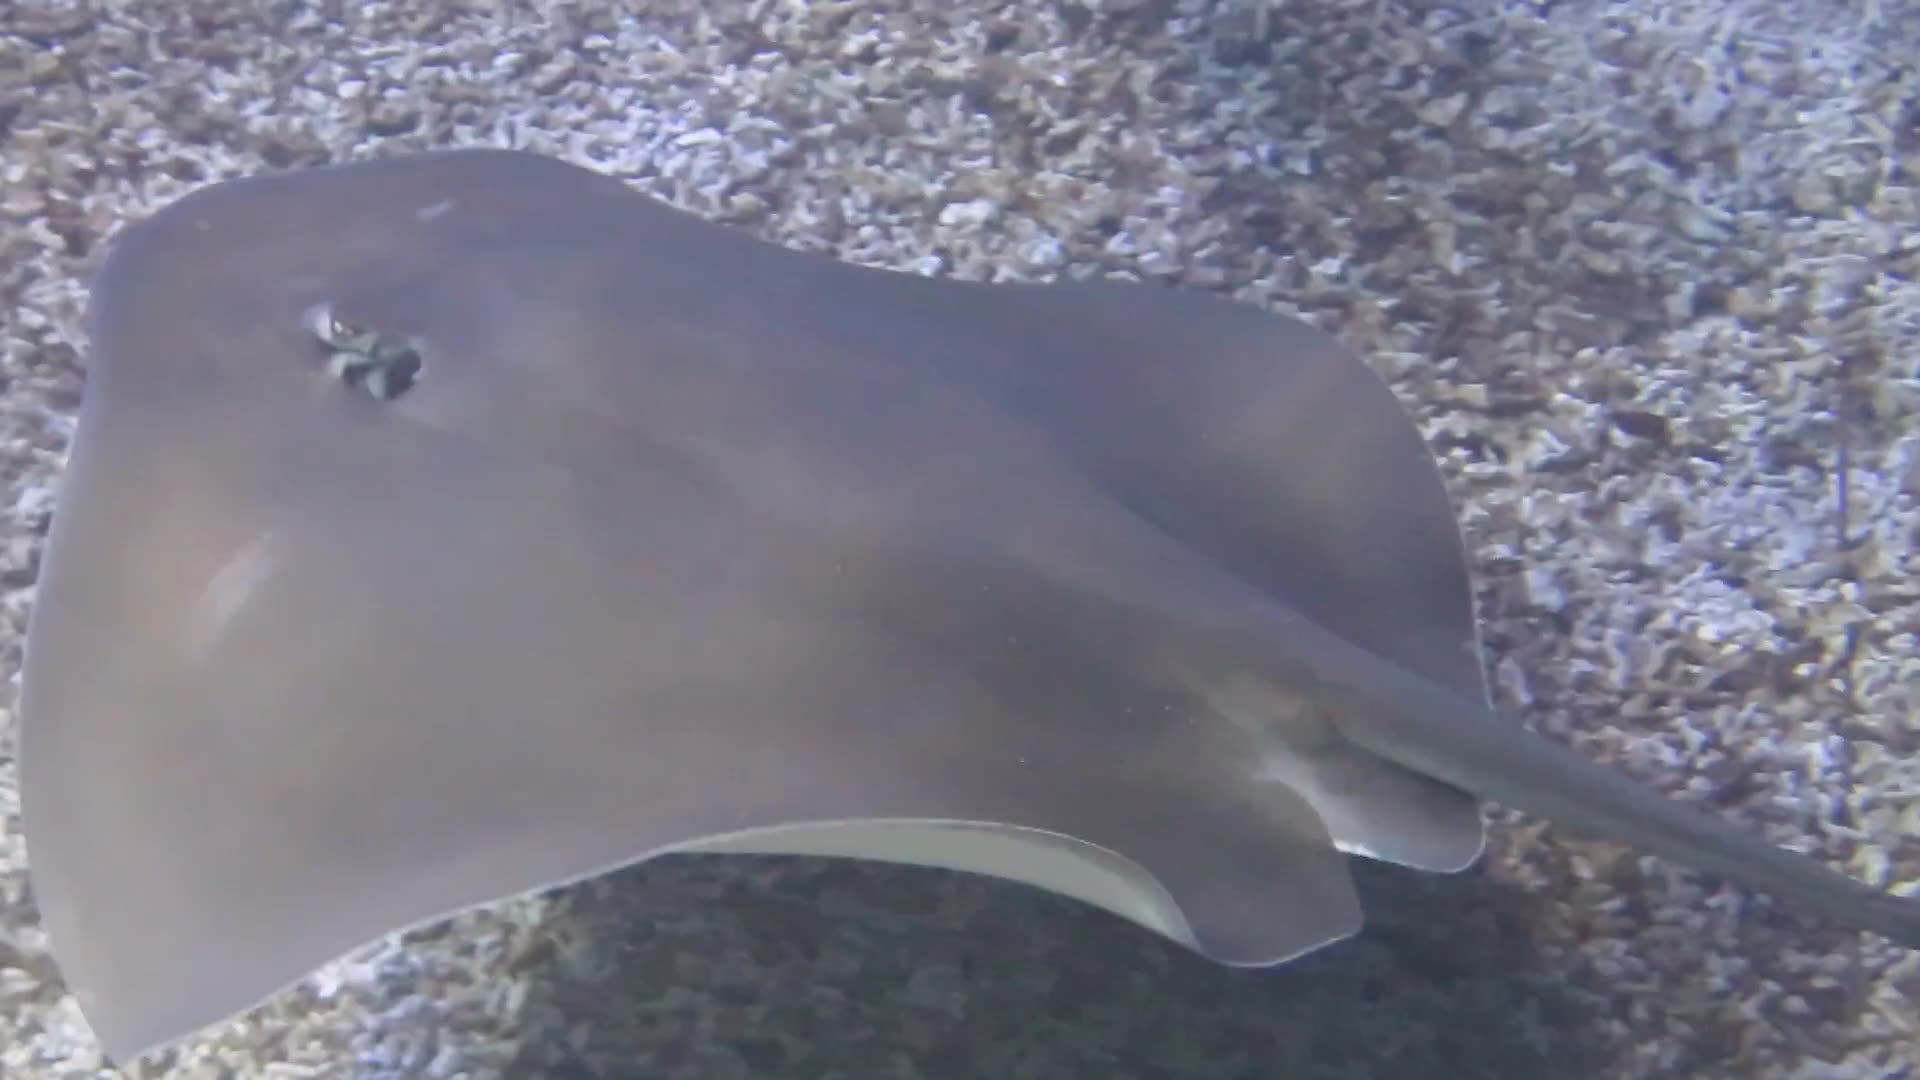Dasyatis akajei: (1, 66, 1920, 1080)
